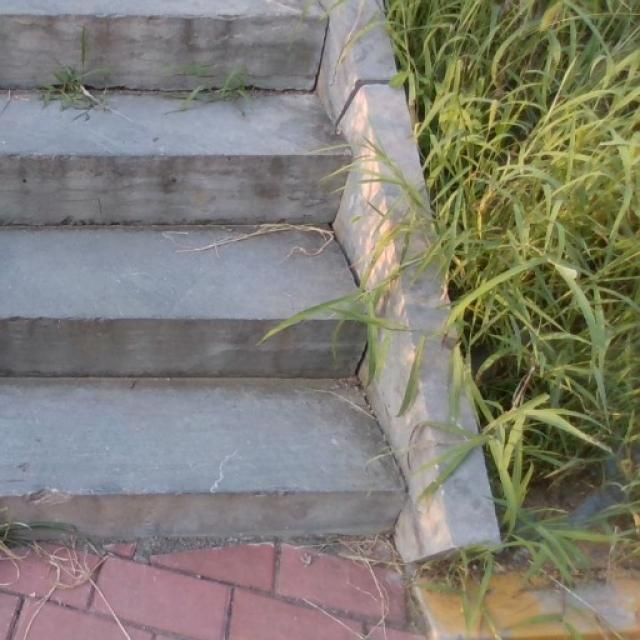Stairs: (0, 0, 410, 541)
